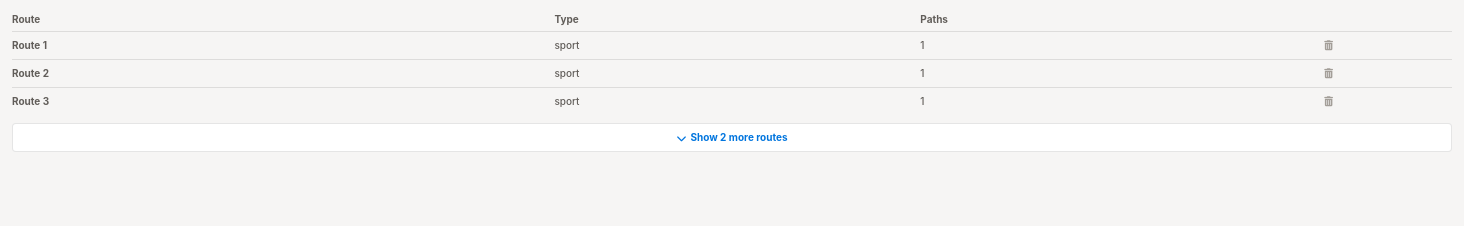
Scenario: CragEditorRouteTable › renders routes, counts paths, and expands the list
The image size is (1464, 226).
Expected: the button "Route 1" is shown, [12,32,554,59]
Expected: the button "Route 4" is not shown
Click the button "Show 2 more routes" at (732, 138), box [12,123,1452,152]
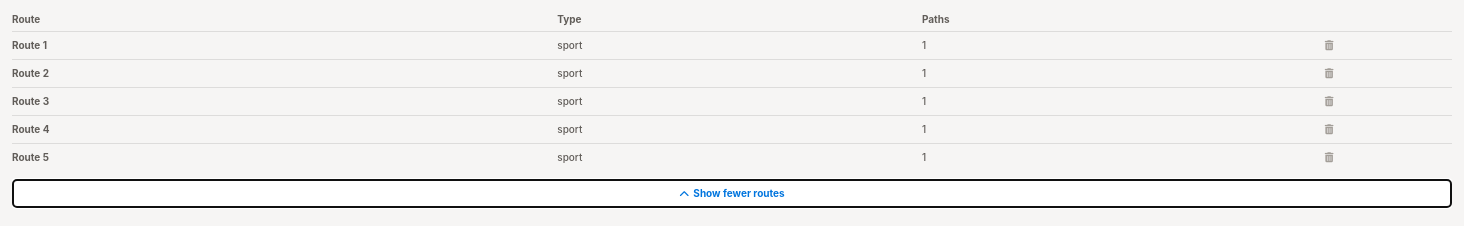
Result: the button "Route 4" is shown at [12,116,557,143]
Result: the button "Show fewer routes" is shown at [12,179,1452,208]
